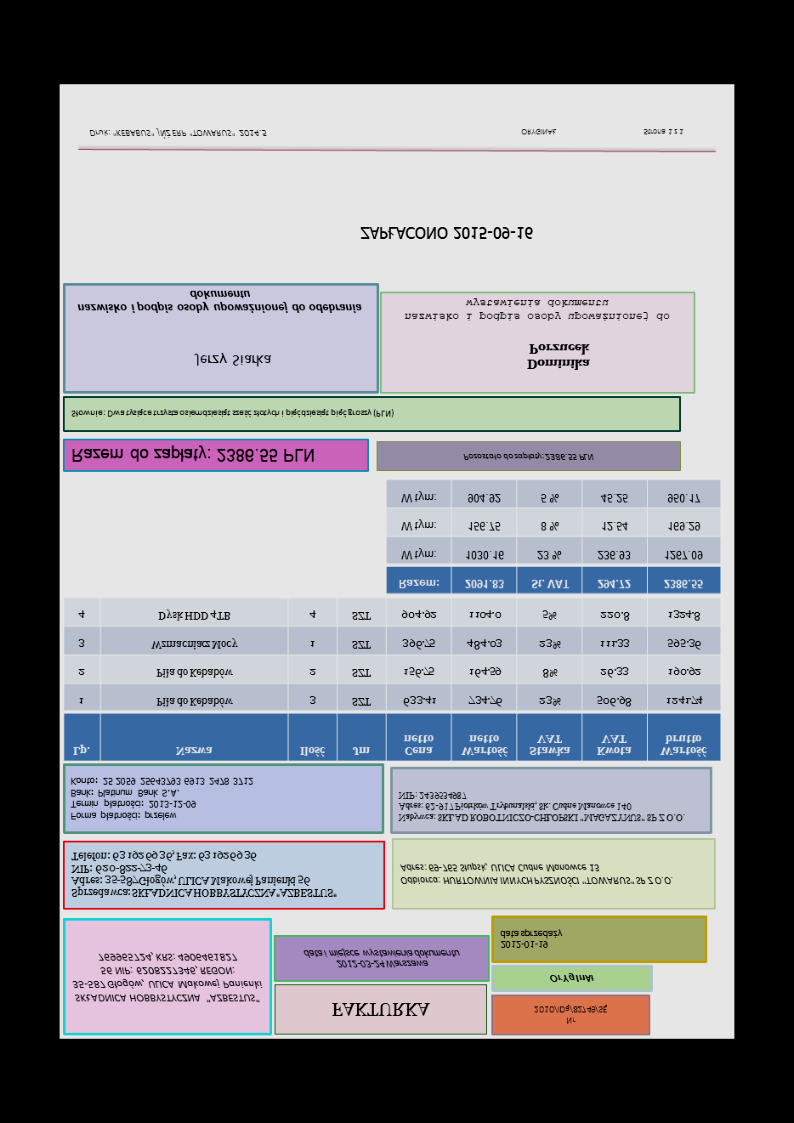Table: (62, 597, 723, 763), (384, 478, 722, 597)
TextBox: (68, 847, 341, 903), (69, 950, 265, 1006), (395, 789, 687, 826), (68, 773, 257, 825), (401, 297, 673, 326), (76, 288, 365, 315), (398, 860, 675, 888), (70, 445, 315, 466), (69, 406, 397, 421), (300, 946, 462, 972), (358, 224, 537, 243), (88, 126, 270, 141), (524, 339, 594, 374), (518, 125, 687, 139), (530, 1002, 610, 1028), (329, 1000, 430, 1020), (461, 450, 596, 464), (190, 349, 275, 371), (498, 927, 564, 953), (547, 971, 596, 988)
